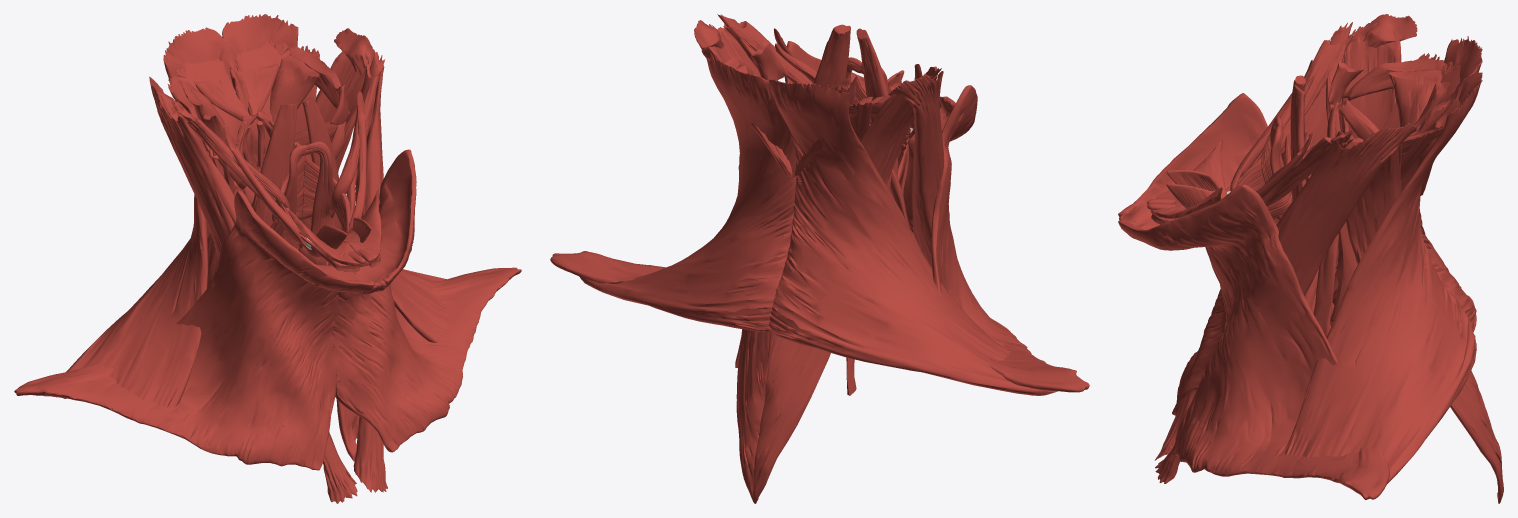
File: muscular.neck.glb
The picture shows the model from 3 angles, left to right: view 1: azimuth 30°, elevation 25°; view 2: azimuth 150°, elevation 25°; view 3: azimuth 270°, elevation 25°; orthographic projection. The views are drawn at different scales.
Visible parts, largest first — view 1: right_platysma, left_platysma, descending_part_of_right_trapezius, right_sternocleidomastoid, descending_part_of_left_trapezius, left_sternocleidomastoid, right_longus_capitis, left_rectus_capitis_posterior_major, left_semispinalis_capitis, left_splenius_capitis, left_palatopharyngeus, right_digastric (+21 smaller); view 2: descending_part_of_right_trapezius, descending_part_of_left_trapezius, right_platysma, right_splenius_capitis, right_sternocleidomastoid, left_splenius_capitis, left_platysma, left_longus_capitis, right_longus_capitis, left_sternocleidomastoid, left_digastric, left_rectus_capitis_lateralis; view 3: left_platysma, descending_part_of_left_trapezius, left_sternocleidomastoid, right_platysma, left_splenius_capitis, right_splenius_capitis, right_sternocleidomastoid, descending_part_of_right_trapezius, right_rectus_capitis_posterior_major, right_digastric, right_obliquus_capitis_superior, left_digastric (+19 smaller).
Part boxes in pixels (x1,y1,x2,y2): right_platysma: (14, 190, 380, 470); left_platysma: (332, 149, 521, 452); descending_part_of_right_trapezius: (43, 27, 251, 408); right_sternocleidomastoid: (149, 76, 357, 503); descending_part_of_left_trapezius: (222, 14, 449, 342); left_sternocleidomastoid: (334, 28, 387, 492); right_longus_capitis: (251, 103, 297, 227); left_rectus_capitis_posterior_major: (269, 55, 319, 123); left_semispinalis_capitis: (235, 41, 319, 153); left_splenius_capitis: (315, 47, 372, 169); left_palatopharyngeus: (307, 141, 334, 265); right_digastric: (177, 111, 360, 271); descending_part_of_right_trapezius: (765, 79, 1057, 395); descending_part_of_left_trapezius: (579, 56, 796, 331); right_platysma: (903, 85, 1089, 392); right_splenius_capitis: (753, 94, 914, 503); right_sternocleidomastoid: (890, 71, 944, 267); left_splenius_capitis: (705, 24, 778, 503); left_platysma: (550, 41, 864, 283); left_longus_capitis: (813, 24, 850, 87); right_longus_capitis: (856, 28, 897, 194); left_sternocleidomastoid: (694, 20, 760, 76); left_digastric: (723, 21, 812, 84); left_rectus_capitis_lateralis: (751, 39, 788, 80); left_platysma: (1118, 184, 1389, 499); descending_part_of_left_trapezius: (1284, 72, 1482, 483); left_sternocleidomastoid: (1155, 123, 1416, 483); right_platysma: (1118, 93, 1267, 415); left_splenius_capitis: (1346, 137, 1503, 503); right_splenius_capitis: (1341, 22, 1503, 501); right_sternocleidomastoid: (1154, 14, 1417, 460); descending_part_of_right_trapezius: (1336, 36, 1482, 331); right_rectus_capitis_posterior_major: (1388, 69, 1442, 127); right_digastric: (1226, 34, 1353, 191); right_obliquus_capitis_superior: (1343, 58, 1446, 100); left_digastric: (1151, 135, 1353, 224).
Bounding box in the file's own units: 0.2929 × 0.2209 × 0.1756.
